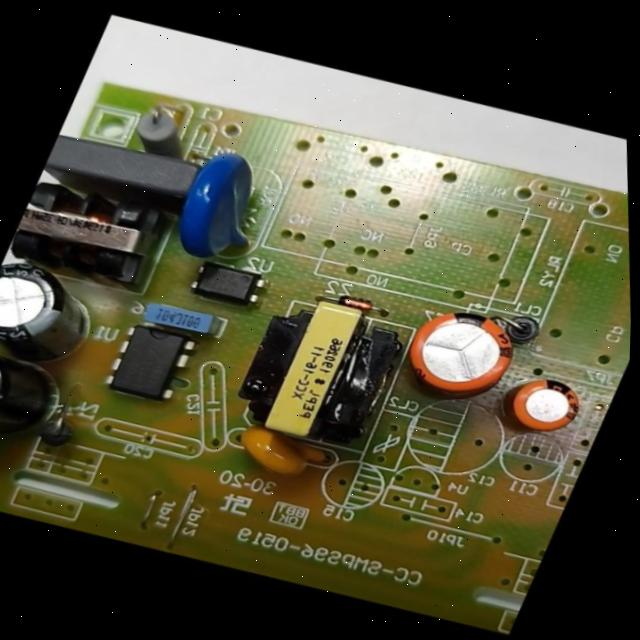Cap1: (387, 291, 543, 413)
Cap2: (495, 361, 600, 446)
Cap3: (0, 249, 123, 375)
Cap4: (0, 334, 85, 455)
MOSFET: (93, 313, 212, 413)
Mov: (157, 138, 298, 274)
Resistor: (120, 95, 204, 162)
Transformer: (211, 276, 425, 465), (1, 164, 186, 297)
